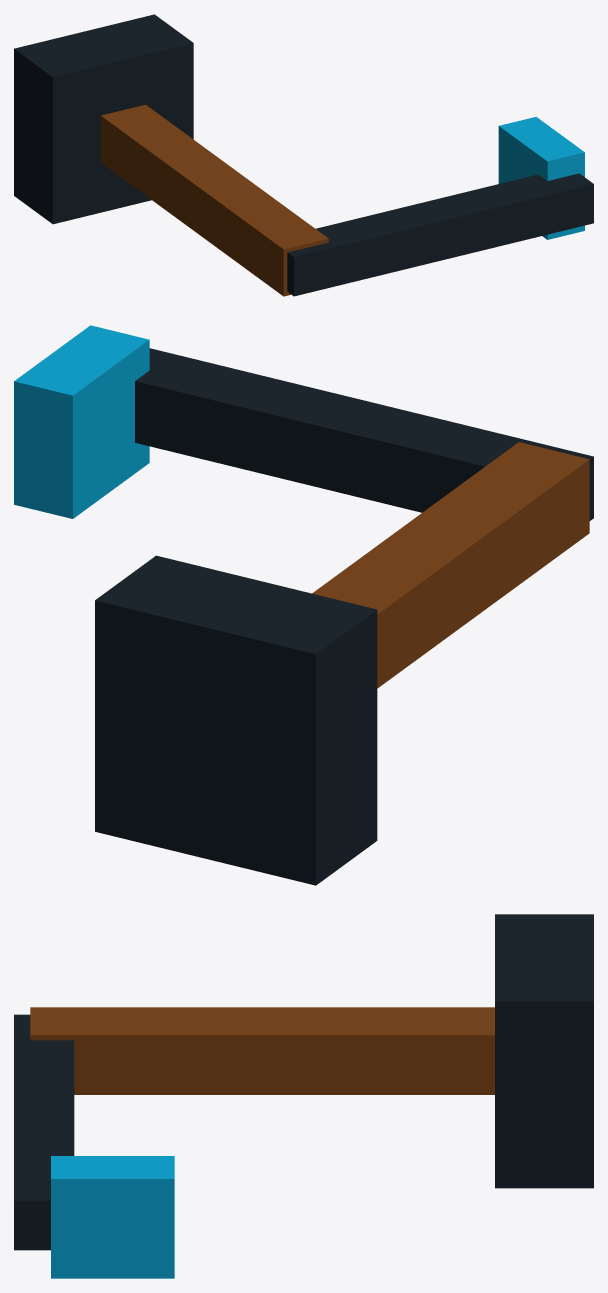
Rendered from SM_ServiceArm.obj.
3 renders of one model, top to bottom at view 1: azimuth 30°, elevation 25°; view 2: azimuth 150°, elevation 25°; view 3: azimuth 270°, elevation 25°, orthographic. The views are drawn at different scales.
Parts seen in each view (by area): view 1: SM_ServiceArm; view 2: SM_ServiceArm; view 3: SM_ServiceArm.
Part boxes in pixels (left/top/right/bottom): SM_ServiceArm: left=14, top=14, right=593, bottom=296; SM_ServiceArm: left=14, top=325, right=593, bottom=885; SM_ServiceArm: left=14, top=914, right=593, bottom=1278.
Size of the model in its own units: 190 by 75 by 211.
